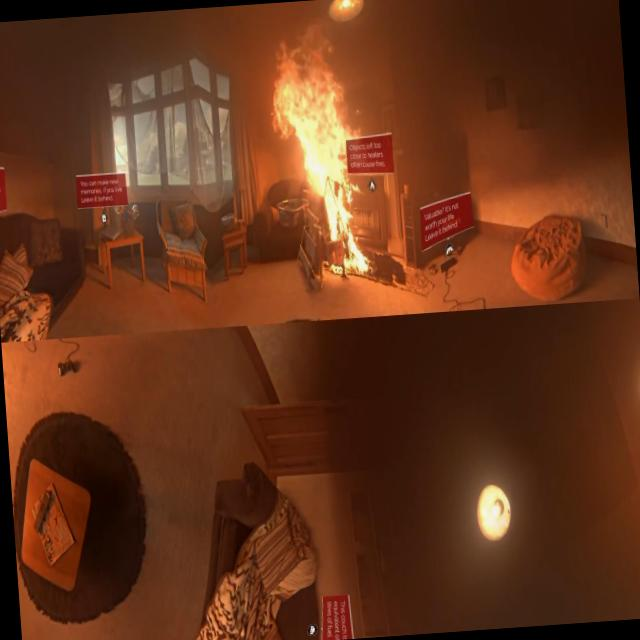fire: (269, 24, 370, 271)
